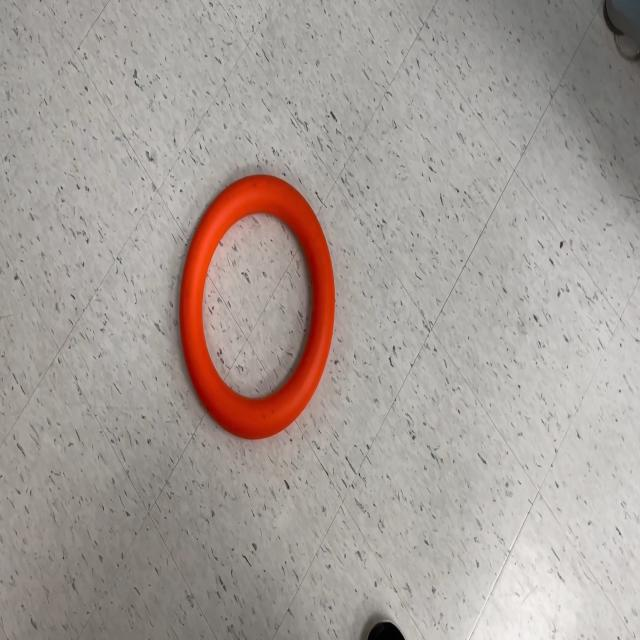note: (180, 173, 336, 438)
